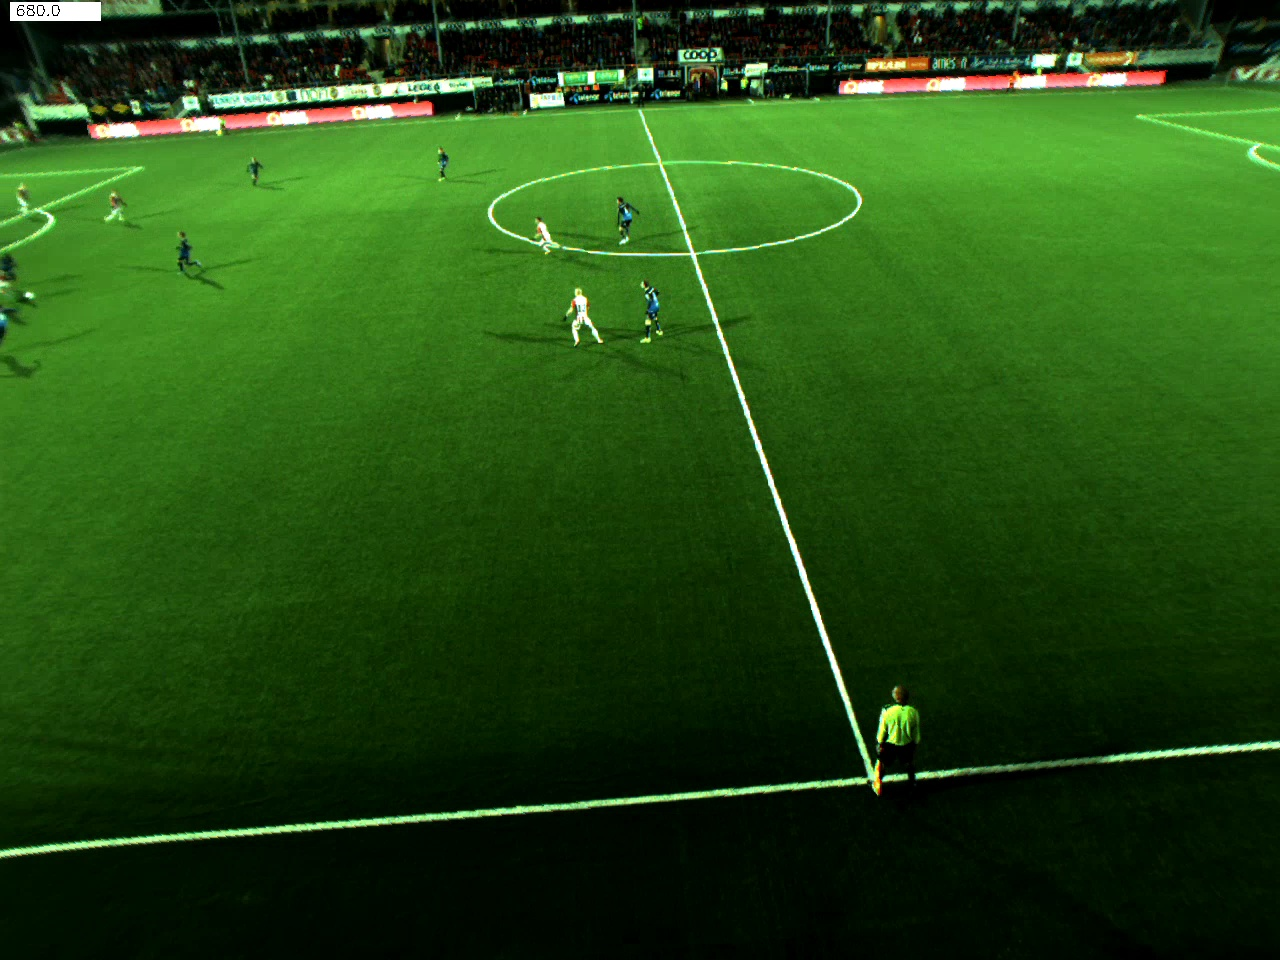blue: (631, 278, 673, 346), (608, 187, 644, 255), (173, 223, 206, 277), (1, 247, 30, 303), (241, 152, 273, 189), (434, 148, 452, 184)
red: (560, 282, 608, 349), (530, 209, 566, 260), (99, 187, 130, 234), (9, 178, 44, 220)
yellow: (864, 680, 941, 803)
